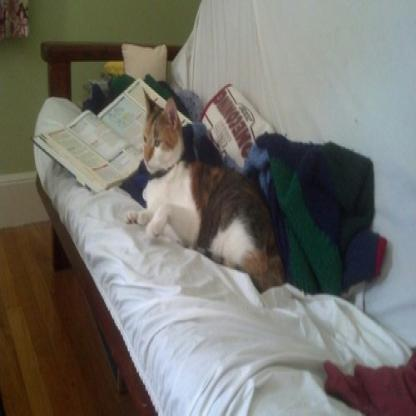Target: (134, 85, 290, 292)
